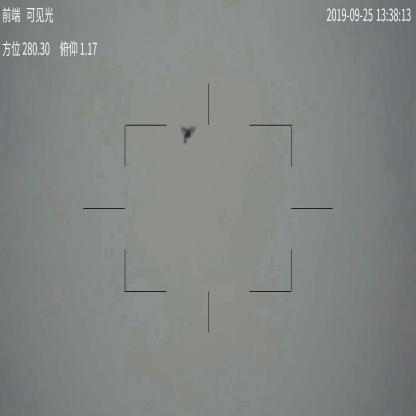uav: (180, 123, 198, 144)
